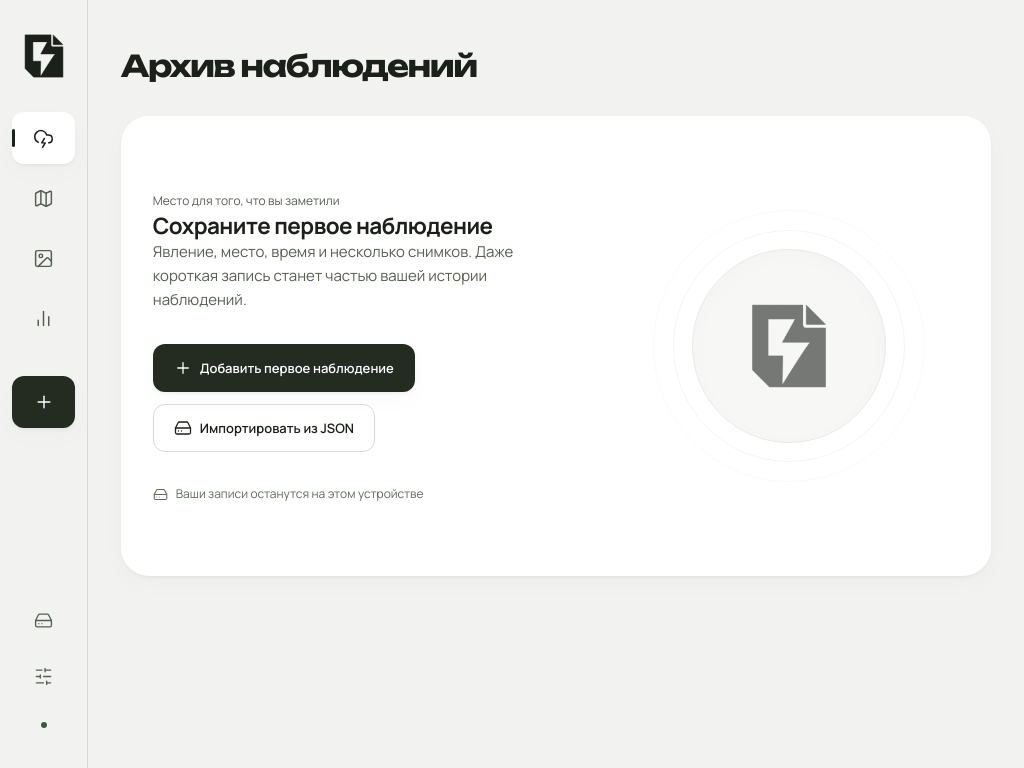
Test: creating an observation › refuses to save without a title and keeps the dialog open
Click the button "Добавить первое наблюдение": {"x": 284, "y": 368} [153,344,415,392]
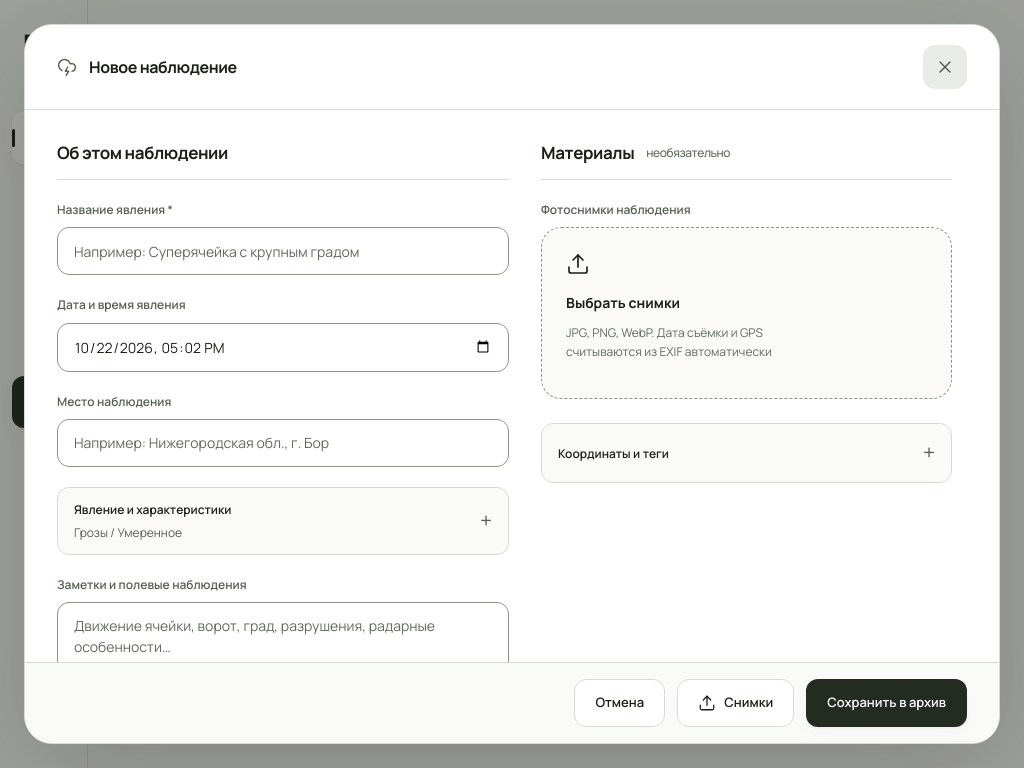
Click the button "Сохранить в архив": {"x": 887, "y": 703} [806,679,967,727]
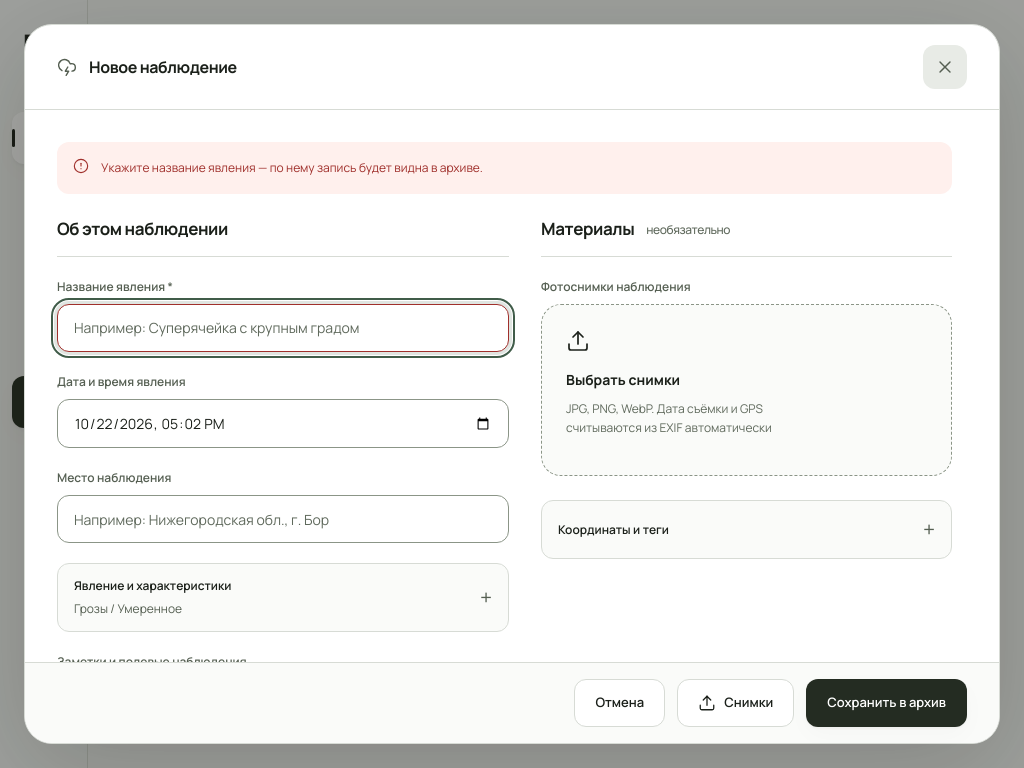
Now the dialog "Новое наблюдение" is shown
Now the text "Укажите название явления" is shown, box [101,159,483,176]
